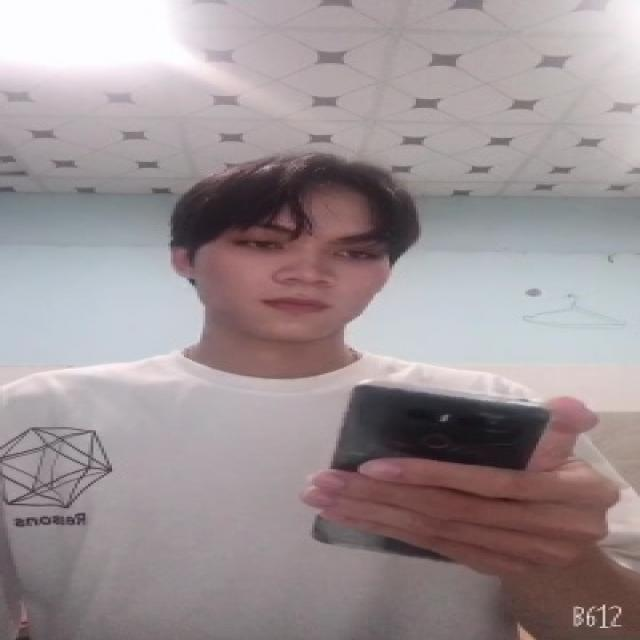Phone: (308, 379, 551, 562)
